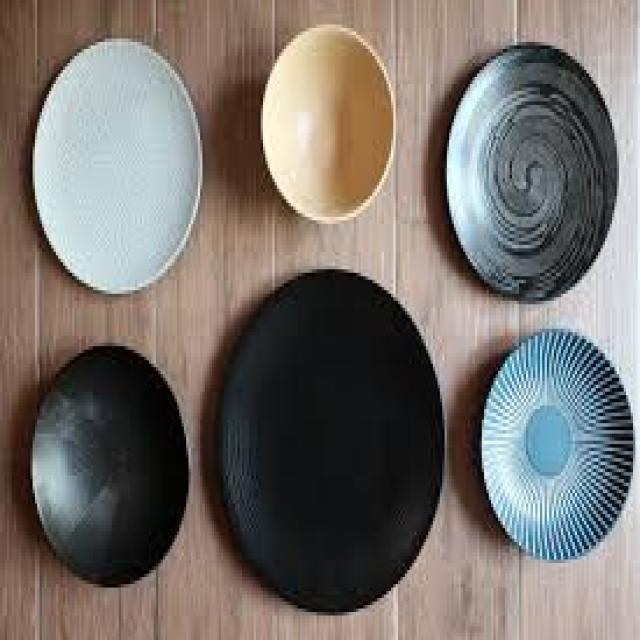Plate: (202, 262, 453, 621), (440, 33, 620, 303), (25, 330, 196, 602), (35, 35, 204, 294), (474, 324, 634, 570), (258, 23, 405, 227)
